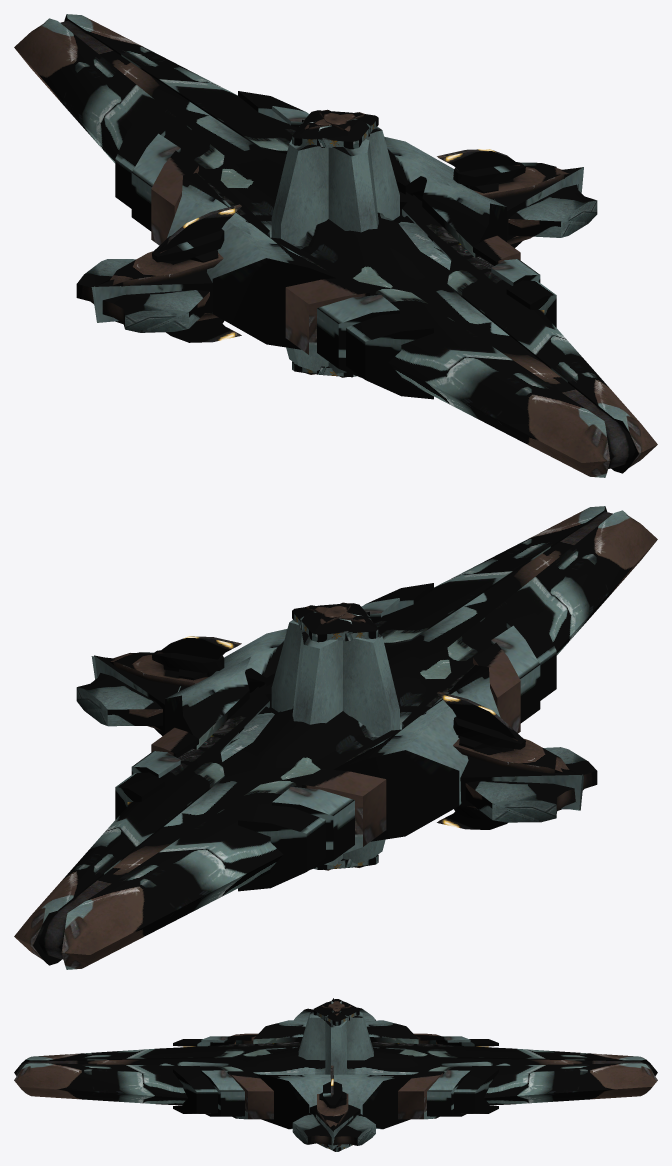
The model's file is Kulrathi_Station.fbx.
The picture shows the model from 3 angles, top to bottom: view 1: azimuth 30°, elevation 25°; view 2: azimuth 150°, elevation 25°; view 3: azimuth 270°, elevation 25°; orthographic projection. The views are drawn at different scales.
Visible parts, largest first — view 1: Kulrathi_Station; view 2: Kulrathi_Station; view 3: Kulrathi_Station.
Boxes of the visible parts, left/top/right/bottom form: Kulrathi_Station: left=14, top=14, right=657, bottom=477; Kulrathi_Station: left=14, top=506, right=657, bottom=969; Kulrathi_Station: left=14, top=998, right=657, bottom=1151.
Bounding box in the file's own units: 491 × 238 × 997.
1 material, 1 textured.
